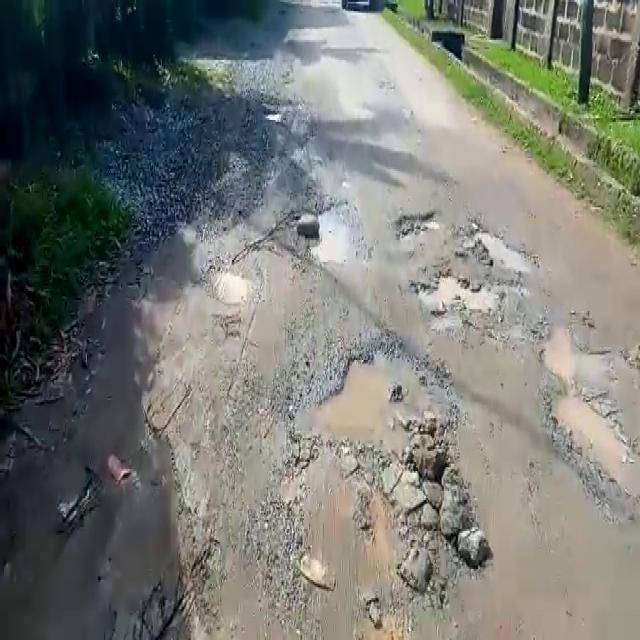pothole: (276, 337, 464, 468), (545, 380, 638, 491), (412, 268, 495, 313), (309, 207, 367, 267), (470, 225, 539, 270), (538, 317, 577, 377), (210, 268, 254, 307)
